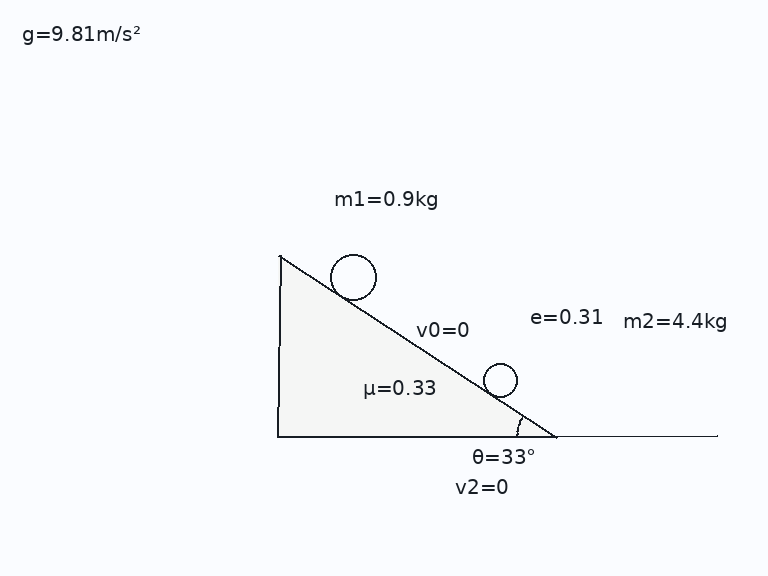ball: (328, 252, 378, 302), (481, 361, 519, 399)
ramp: (277, 254, 559, 439)
